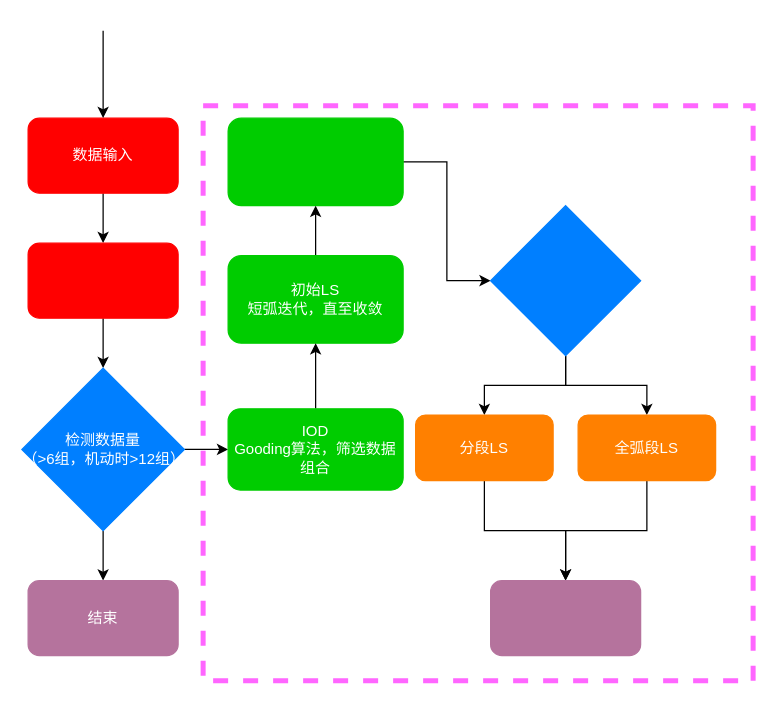
Image size: 778x705. Some labels were removed from this diagram. The centre of each missing label's shape, as x and y in pixels:
提取MPC80数据，转换成TDM文件: the point at 102,280
数据分段 逐步加入数据，检测收敛性: the point at 315,161
是否检测到机动: the point at 565,280
生成报告并导入STK: the point at 565,617
